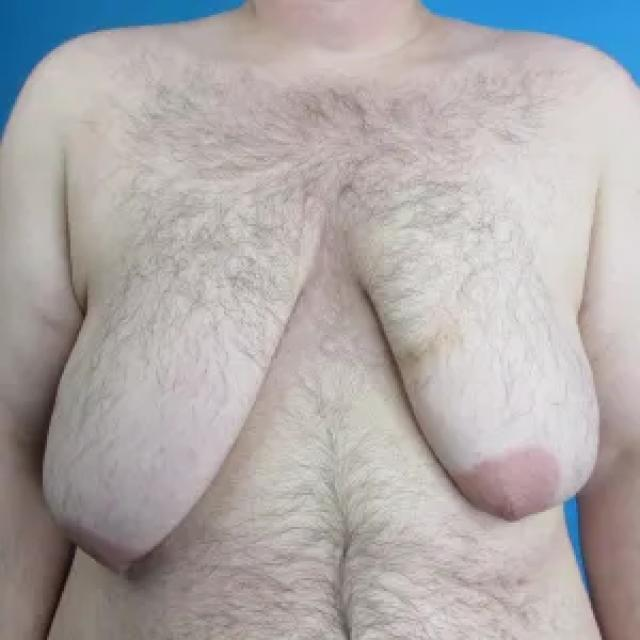Seno ileso: (35, 205, 330, 593), (336, 205, 608, 540)
